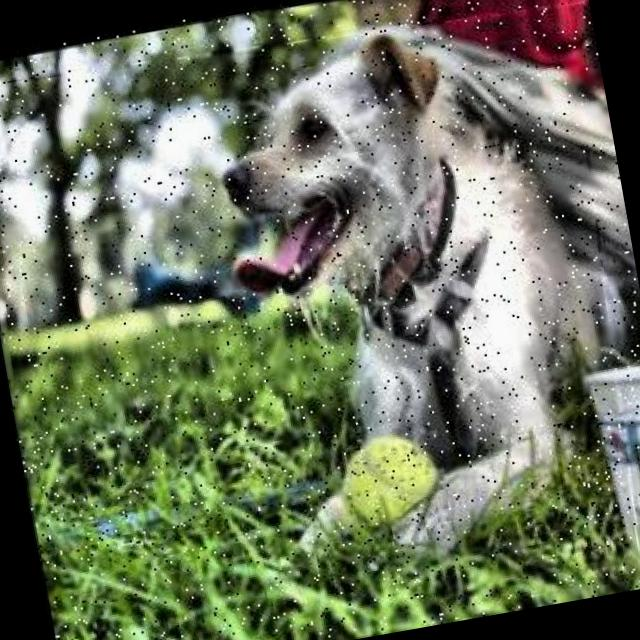Tennis Ball: (323, 416, 458, 558)
